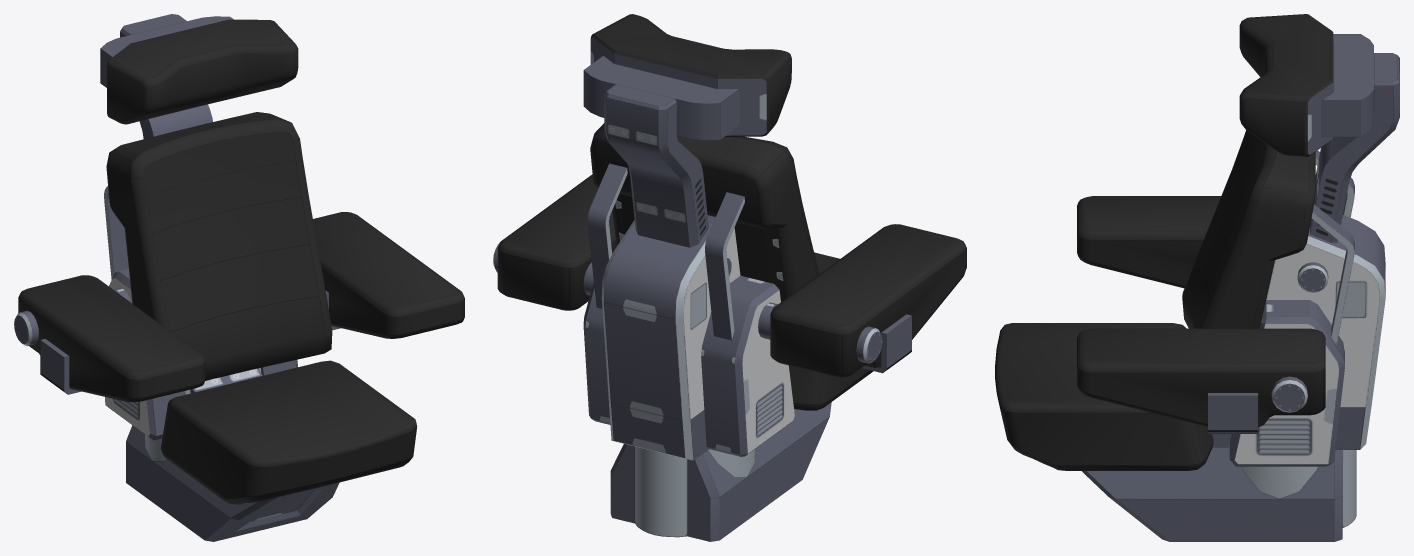
File: Chair_06.FBX
3 views of the same model, side by side, from view 1: azimuth 30°, elevation 25°; view 2: azimuth 150°, elevation 25°; view 3: azimuth 270°, elevation 25° (orthographic). The views are drawn at different scales.
Visible parts, largest first — view 1: Chair_06, Armrest_Right, Armrest_Left; view 2: Chair_06, Armrest_Right, Armrest_Left; view 3: Chair_06, Armrest_Left, Armrest_Right.
Part boxes in pixels (<box>): Chair_06: <box>14,14,417,541</box>; Armrest_Right: <box>18,275,205,402</box>; Armrest_Left: <box>313,212,464,338</box>; Chair_06: <box>493,14,882,541</box>; Armrest_Right: <box>770,224,966,377</box>; Armrest_Left: <box>497,174,616,310</box>; Chair_06: <box>995,14,1399,541</box>; Armrest_Left: <box>1077,328,1325,433</box>; Armrest_Right: <box>1077,196,1220,288</box>.
Size of the model in its own units: 1.76 by 2.08 by 1.66.
